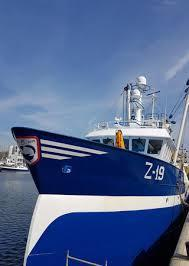fishing boat: (8, 72, 189, 266)
